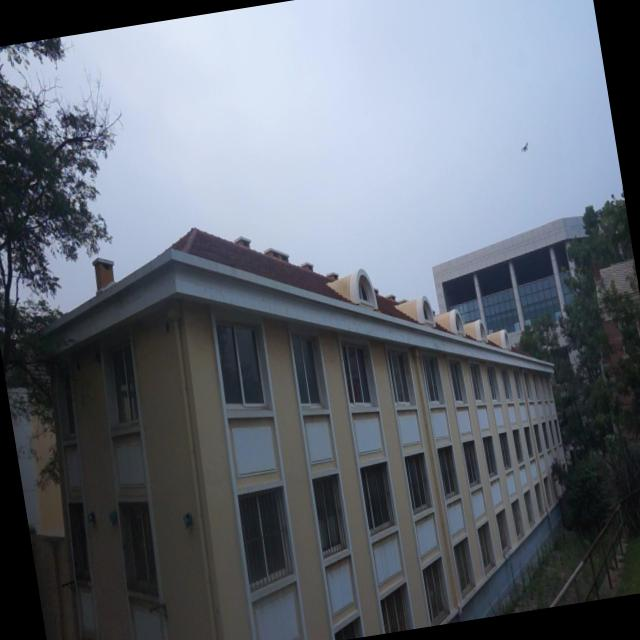drone: (517, 137, 533, 158)
